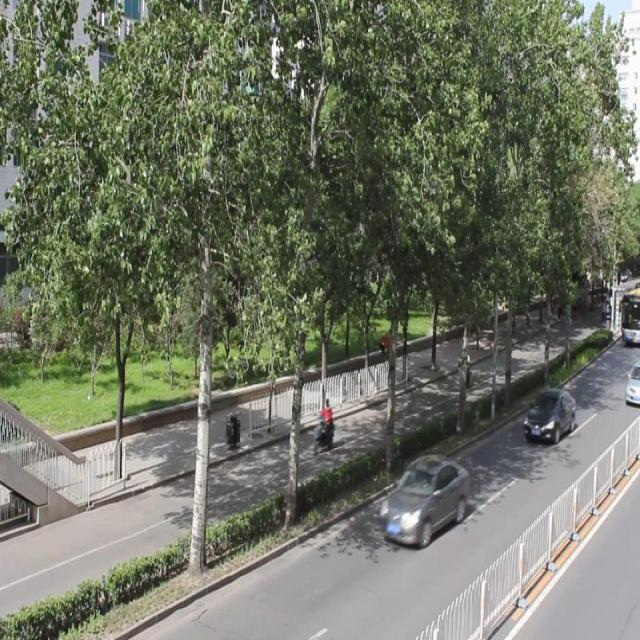car: (380, 453, 469, 547), (522, 386, 575, 442)
